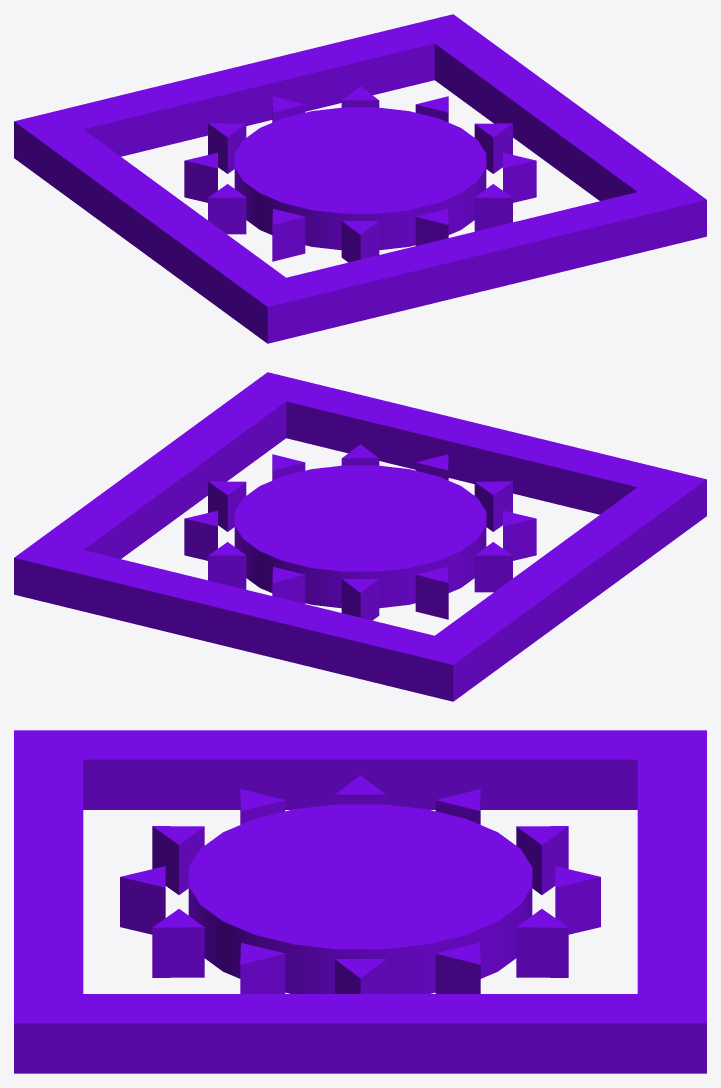
The model's file is pu_ballPlus.fbx.
3 renders of one model, top to bottom at view 1: azimuth 30°, elevation 25°; view 2: azimuth 150°, elevation 25°; view 3: azimuth 270°, elevation 25°, orthographic. The views are drawn at different scales.
Visible parts, largest first — view 1: pu_ballPlus; view 2: pu_ballPlus; view 3: pu_ballPlus.
Boxes of the visible parts, x1,y1,x2,y2 form: pu_ballPlus: (14,14,706,343); pu_ballPlus: (14,372,706,701); pu_ballPlus: (14,730,706,1073).
Size of the model in its own units: 1 by 0.08 by 1.
